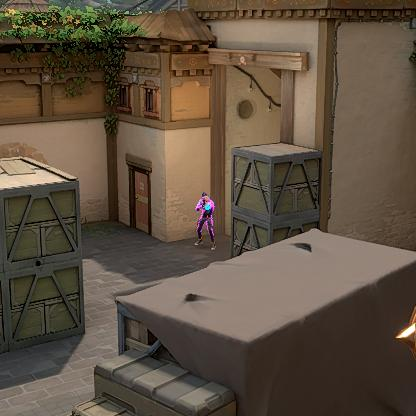enemyBody: (201, 202, 209, 219)
enemyHead: (203, 194, 207, 201)
